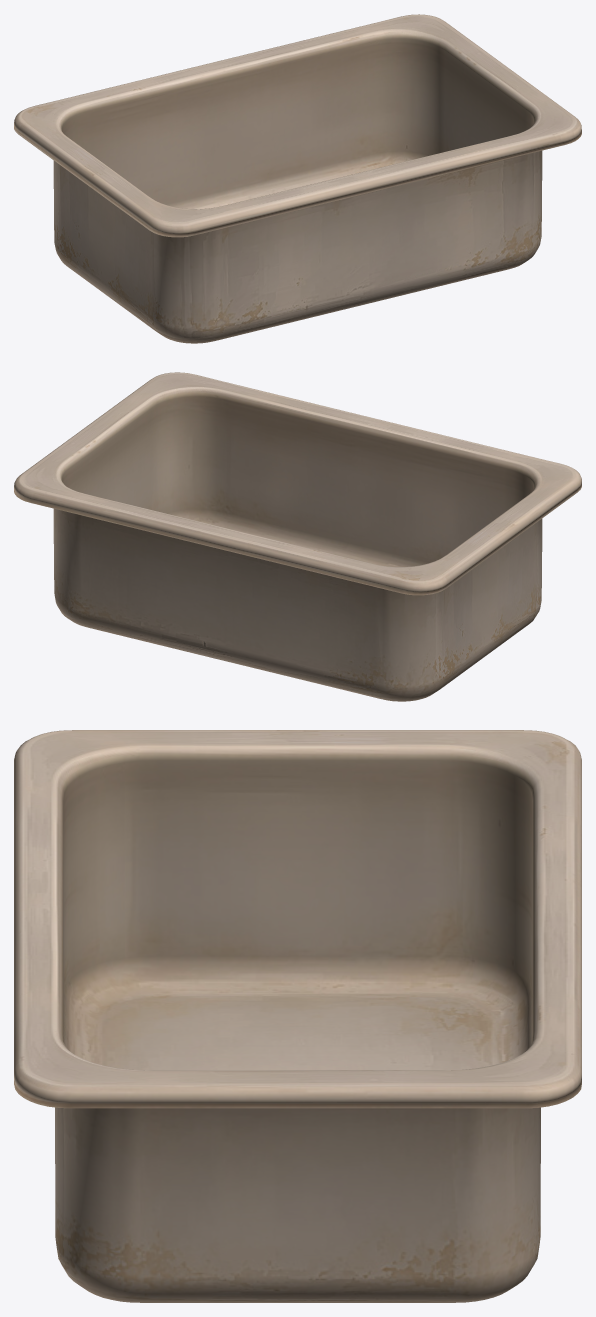
File: P31_ingredient_pan_Runtime_1k.glb
The picture shows the model from 3 angles, top to bottom: view 1: azimuth 30°, elevation 25°; view 2: azimuth 150°, elevation 25°; view 3: azimuth 270°, elevation 25°; orthographic projection. The views are drawn at different scales.
Visible parts, largest first — view 1: tripo_node_96d5b4be; view 2: tripo_node_96d5b4be; view 3: tripo_node_96d5b4be.
Part boxes in pixels (bbox=[...]): tripo_node_96d5b4be: bbox=[14, 14, 581, 343]; tripo_node_96d5b4be: bbox=[14, 372, 581, 701]; tripo_node_96d5b4be: bbox=[14, 730, 581, 1302].
Bounding box in the file's own units: 0.32 × 0.1018 × 0.2118.
1 material, 1 textured.
